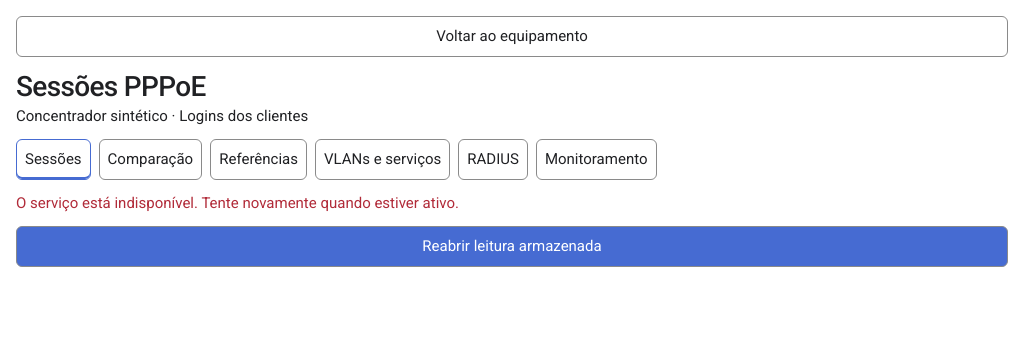
it: UX-R01: references can recover an initial reading failure without remote collection
This screenshot has width=1024, height=352.
Expected: the message "O serviço está indisponível. Tente novamente quando estiver ativo." is shown, top-left (16, 194), bottom-right (459, 212)
Step 1. Click the tab "Referências" → [259, 160], box top-left (210, 139), bottom-right (307, 180)
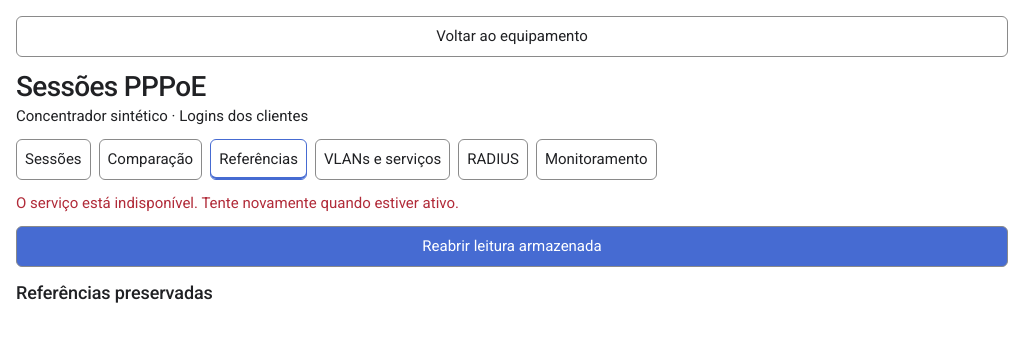
Step 2. Click the button "Reabrir leitura armazenada" → [512, 247], box top-left (16, 226), bottom-right (1008, 267)
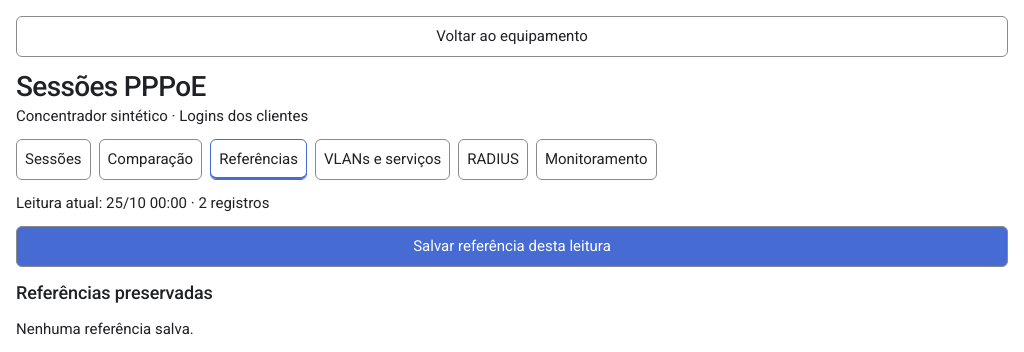
Expected: the button "Salvar referência desta leitura" is shown, top-left (16, 226), bottom-right (1008, 267)
Expected: the text "Leitura atual: 25/10 00:00 · 2 registros" is shown, top-left (16, 194), bottom-right (269, 212)
